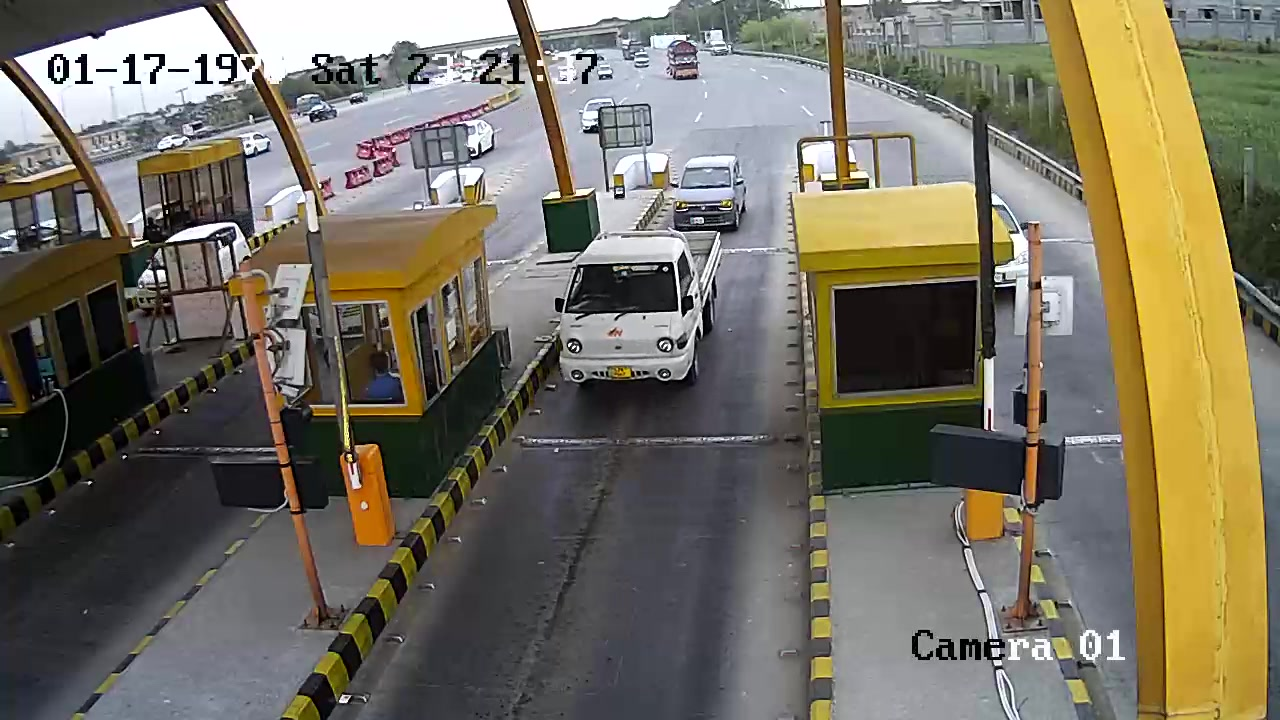F2: (558, 227, 729, 389)
